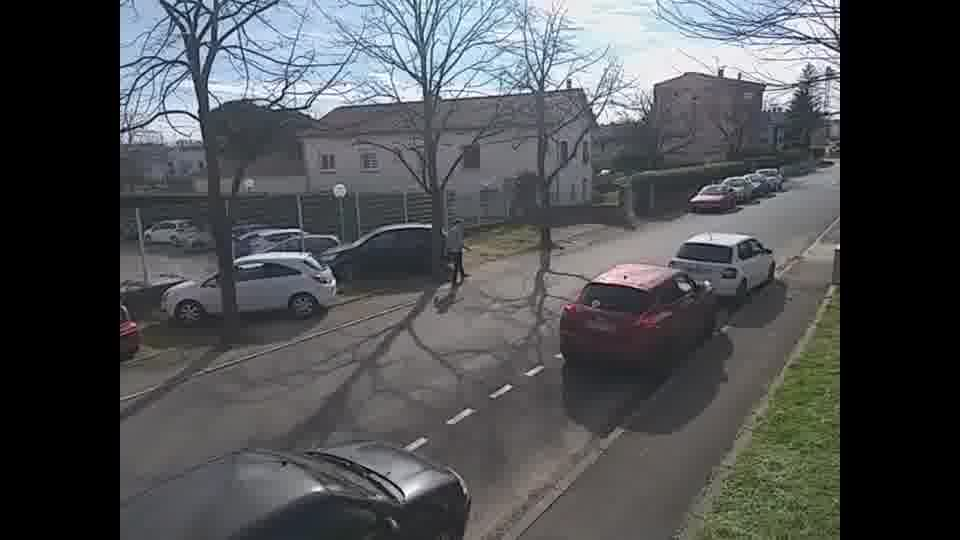jugador: (443, 212, 473, 289)
